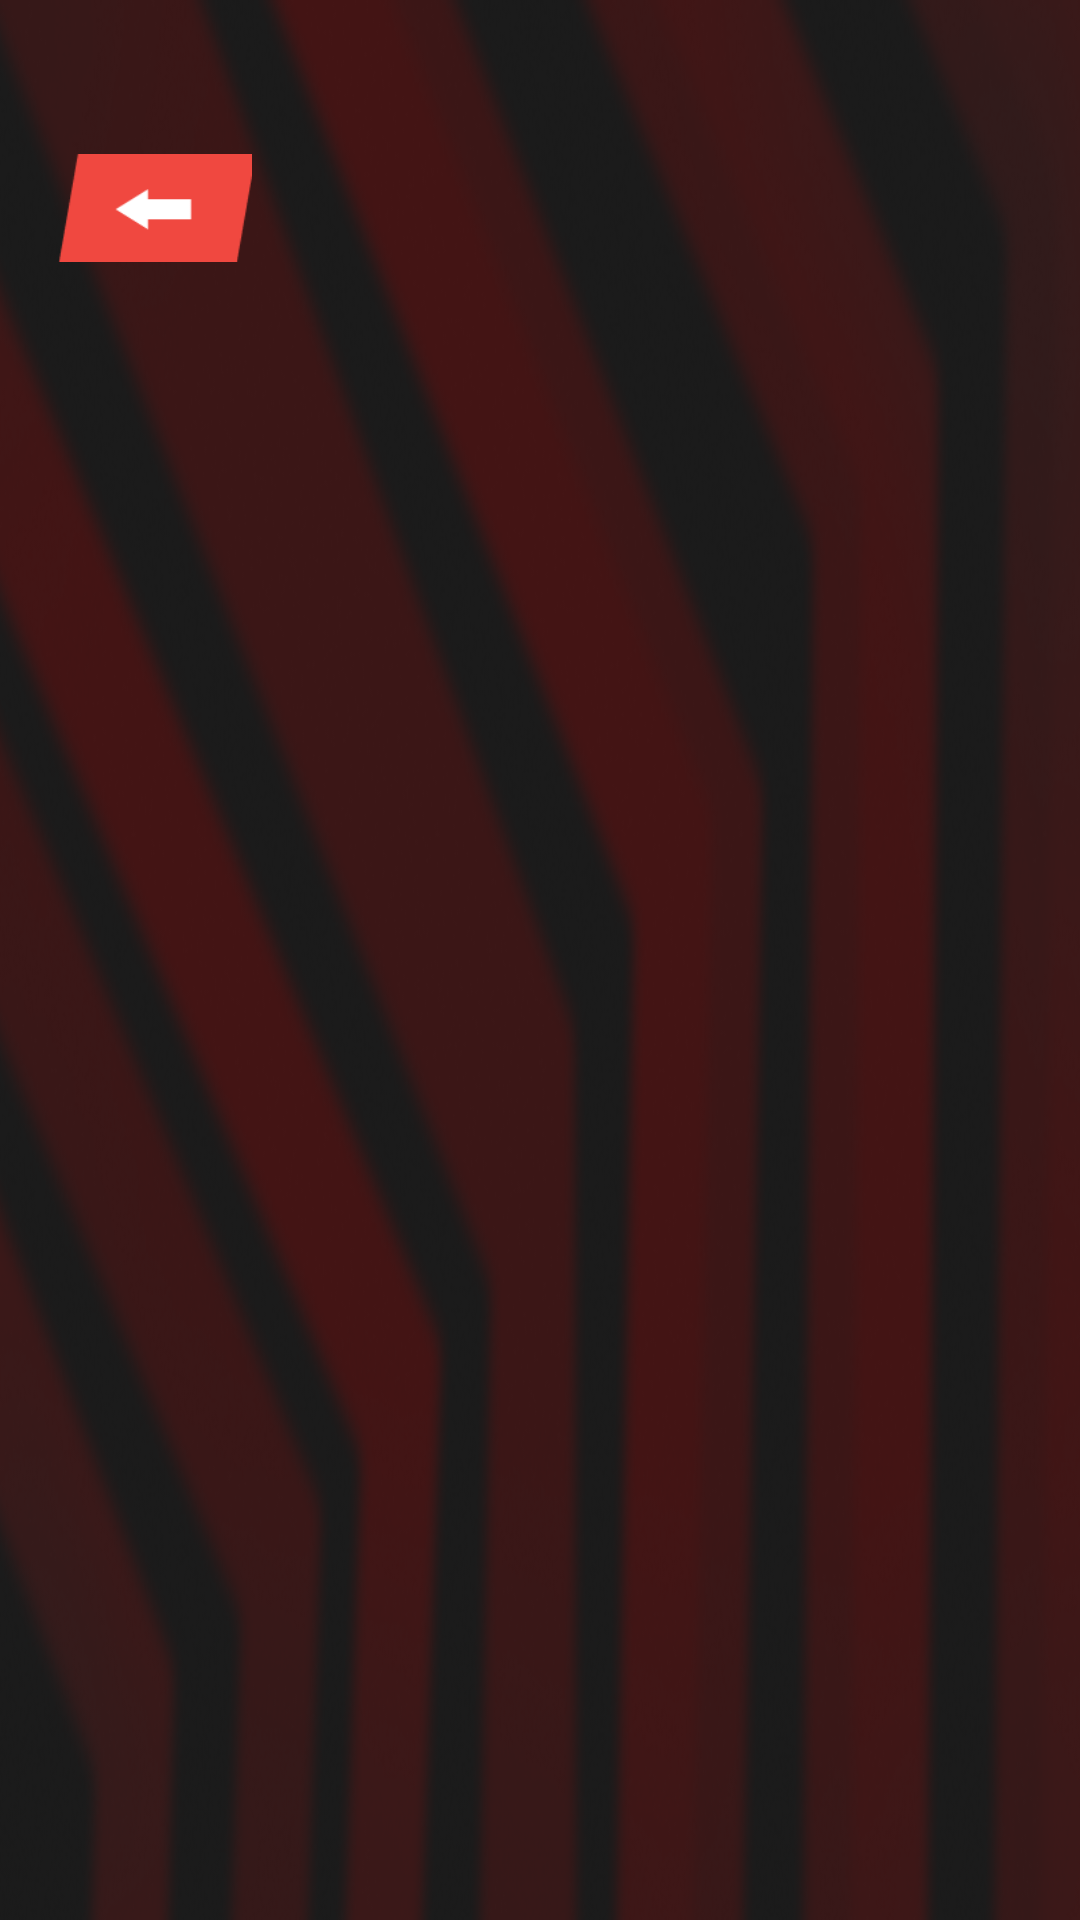

Named icons in this screenshot (1080px x 1920px) and their bounding boxes, rect(x1, y1, x2, y2):
back: rect(54, 154, 252, 262)
